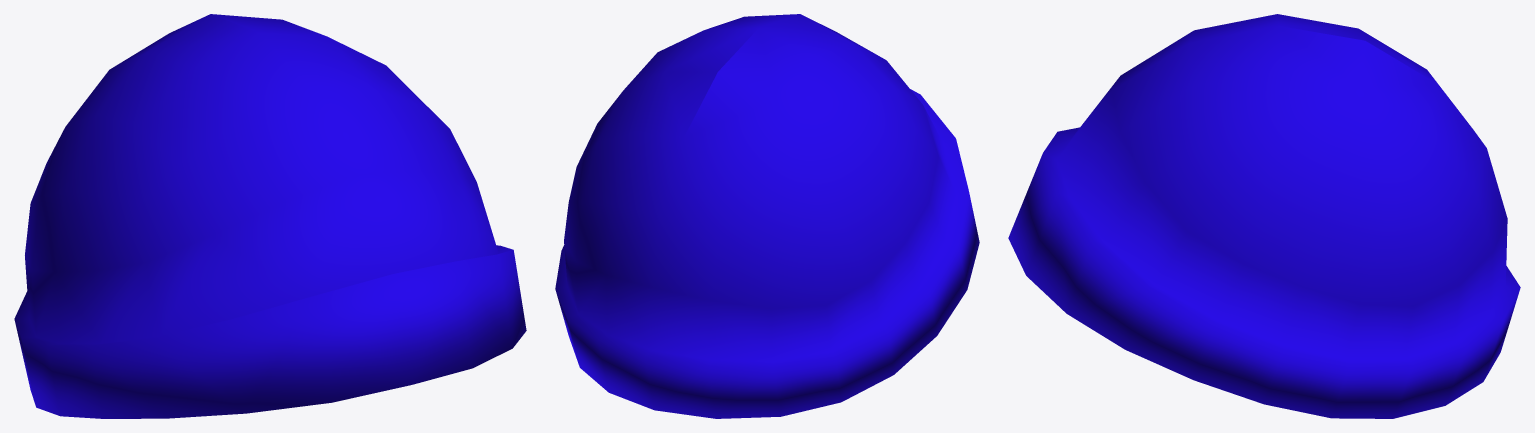
File: WoolCap.fbx
3 views of the same model, side by side, from view 1: azimuth 30°, elevation 25°; view 2: azimuth 150°, elevation 25°; view 3: azimuth 270°, elevation 25° (orthographic). The views are drawn at different scales.
Visible parts, largest first — view 1: WoolCap; view 2: WoolCap; view 3: WoolCap.
Part boxes in pixels (<box>): WoolCap: <box>14,14,526,418</box>; WoolCap: <box>555,14,979,418</box>; WoolCap: <box>1008,14,1520,418</box>.
Size of the model in its own units: 63.73 by 53.93 by 76.32.
